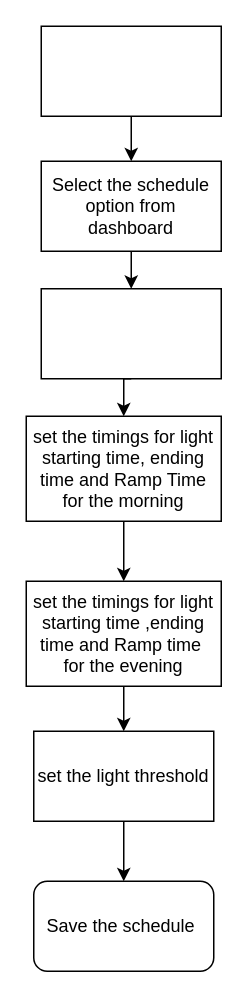
The diagram is 248 pixels wide and 998 high, and some of its shapes have lost their labels. The box of each missing label's shape, as (x1, y1, x2, y2) in pixels:
open App: (40, 25, 221, 116)
Select the farm /select shed /select zone: (40, 287, 221, 379)
